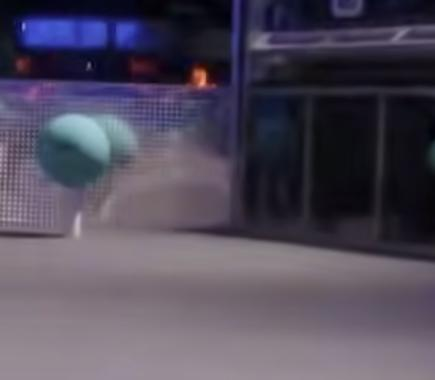algae: (37, 114, 111, 190)
coral: (62, 188, 83, 238)
